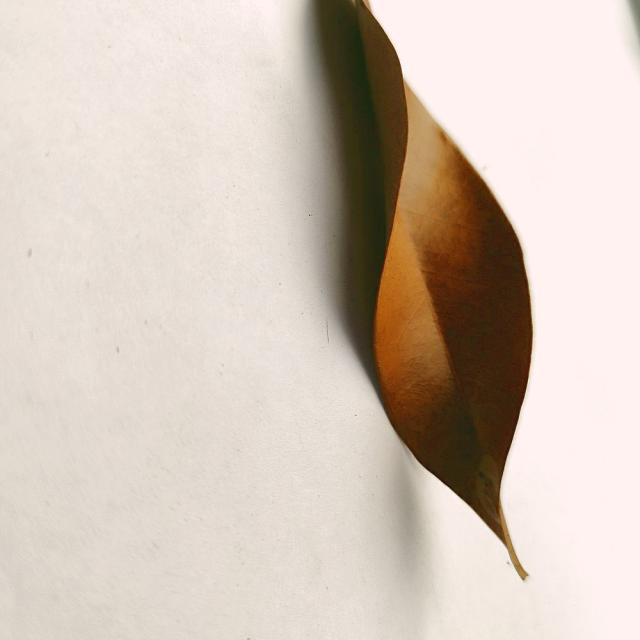Dry_Leaf-Lychee: (348, 0, 534, 579)
